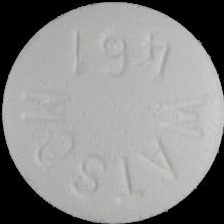49999-107: (0, 0, 224, 224)
